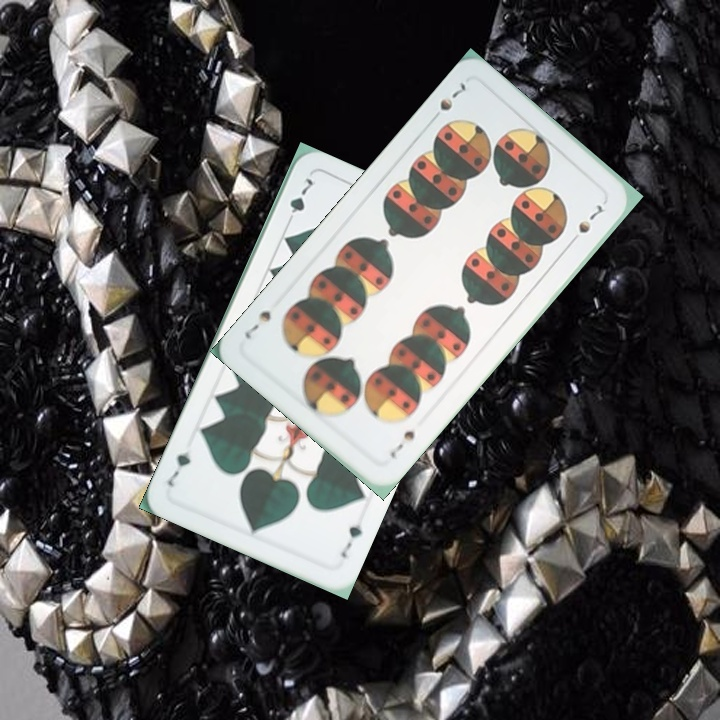G7: (282, 174, 319, 228), (337, 514, 366, 561)
S7: (426, 78, 469, 125), (386, 426, 417, 462)
